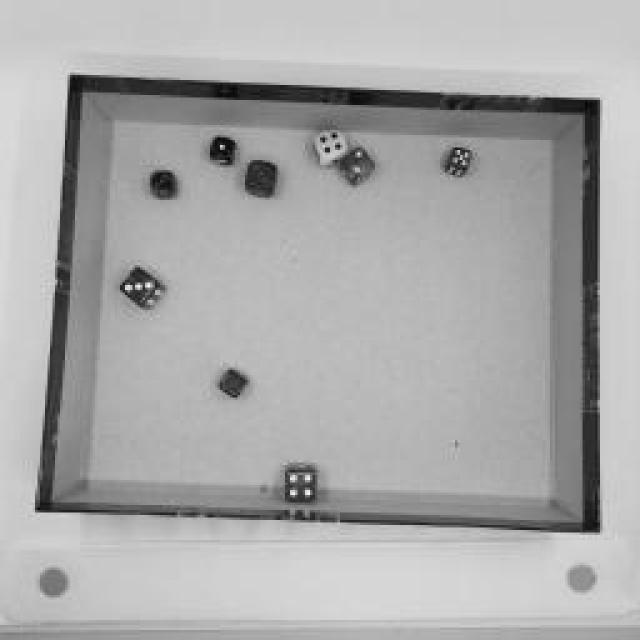dice_1: (208, 136, 238, 169)
dice_2: (340, 146, 375, 186)
dice_3: (118, 268, 164, 310), (242, 159, 280, 201), (218, 369, 252, 401), (150, 171, 180, 204)
dice_4: (314, 131, 351, 169), (284, 464, 316, 504)
dice_5: (443, 145, 475, 177)
